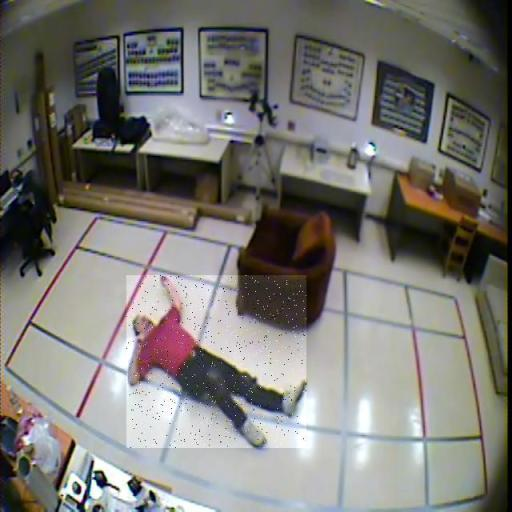Fall: (127, 275, 307, 448)
